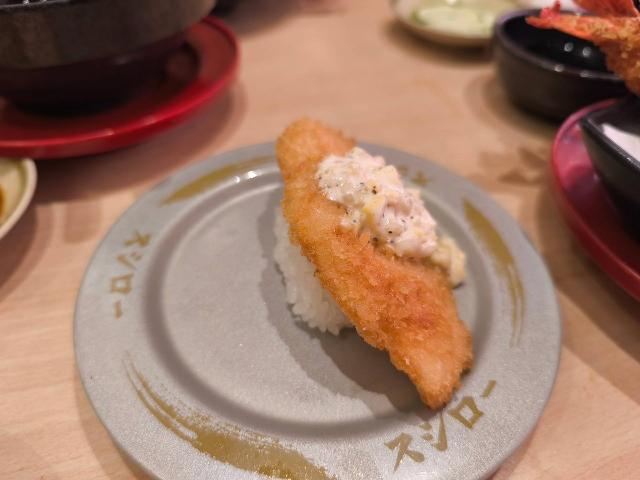janred: (8, 15, 249, 142), (567, 127, 640, 304)
janwhite: (108, 136, 545, 480)
